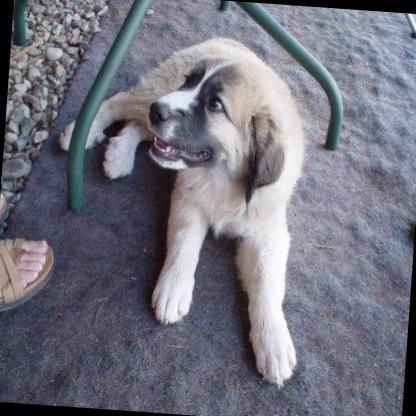Great_Pyrenees: (47, 21, 320, 390)
